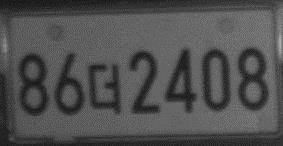0: (200, 47, 232, 113)
2: (127, 49, 160, 115)
4: (164, 47, 198, 112)
6: (53, 51, 85, 115)
8: (236, 46, 270, 112), (17, 52, 49, 116)
더: (86, 61, 123, 116)
